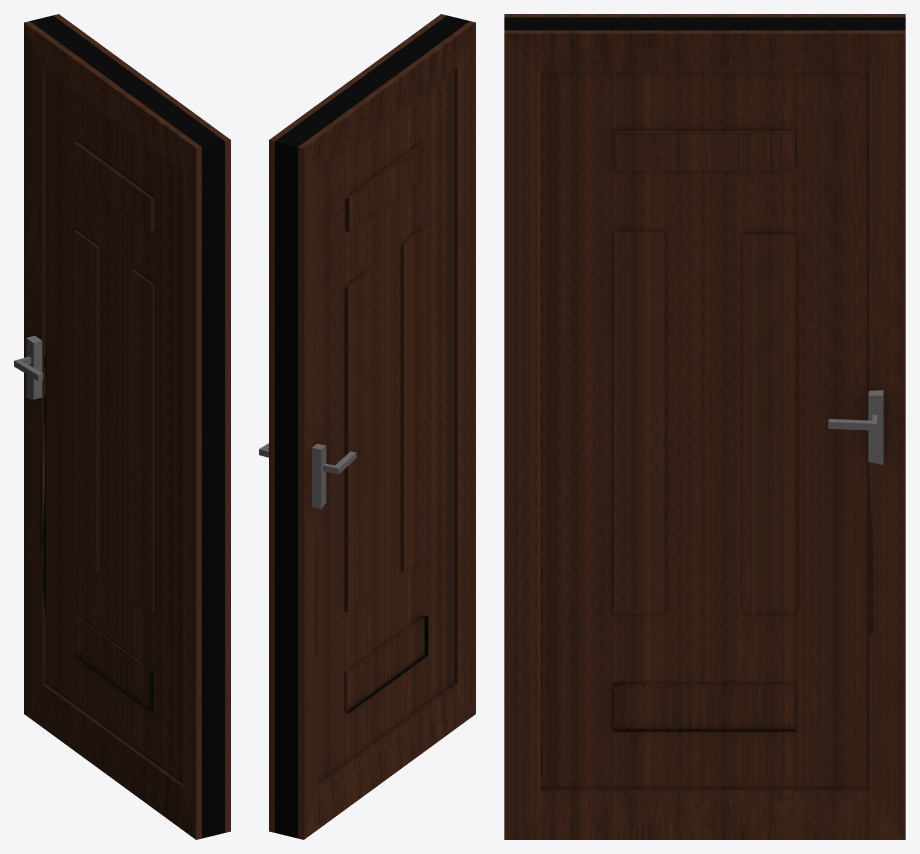
The model's file is PuertaPrincipal1.fbx.
3 views of the same model, side by side, from view 1: azimuth 30°, elevation 25°; view 2: azimuth 150°, elevation 25°; view 3: azimuth 270°, elevation 25° (orthographic). The views are drawn at different scales.
Visible parts, largest first — view 1: Puerta; view 2: Puerta; view 3: Puerta.
Part boxes in pixels (x1,y1,x2,y2): Puerta: (14,14,230,839); Puerta: (259,14,475,839); Puerta: (504,14,905,839).
Size of the model in its own units: 71.11 by 589 by 266.
2 materials, 1 textured.
